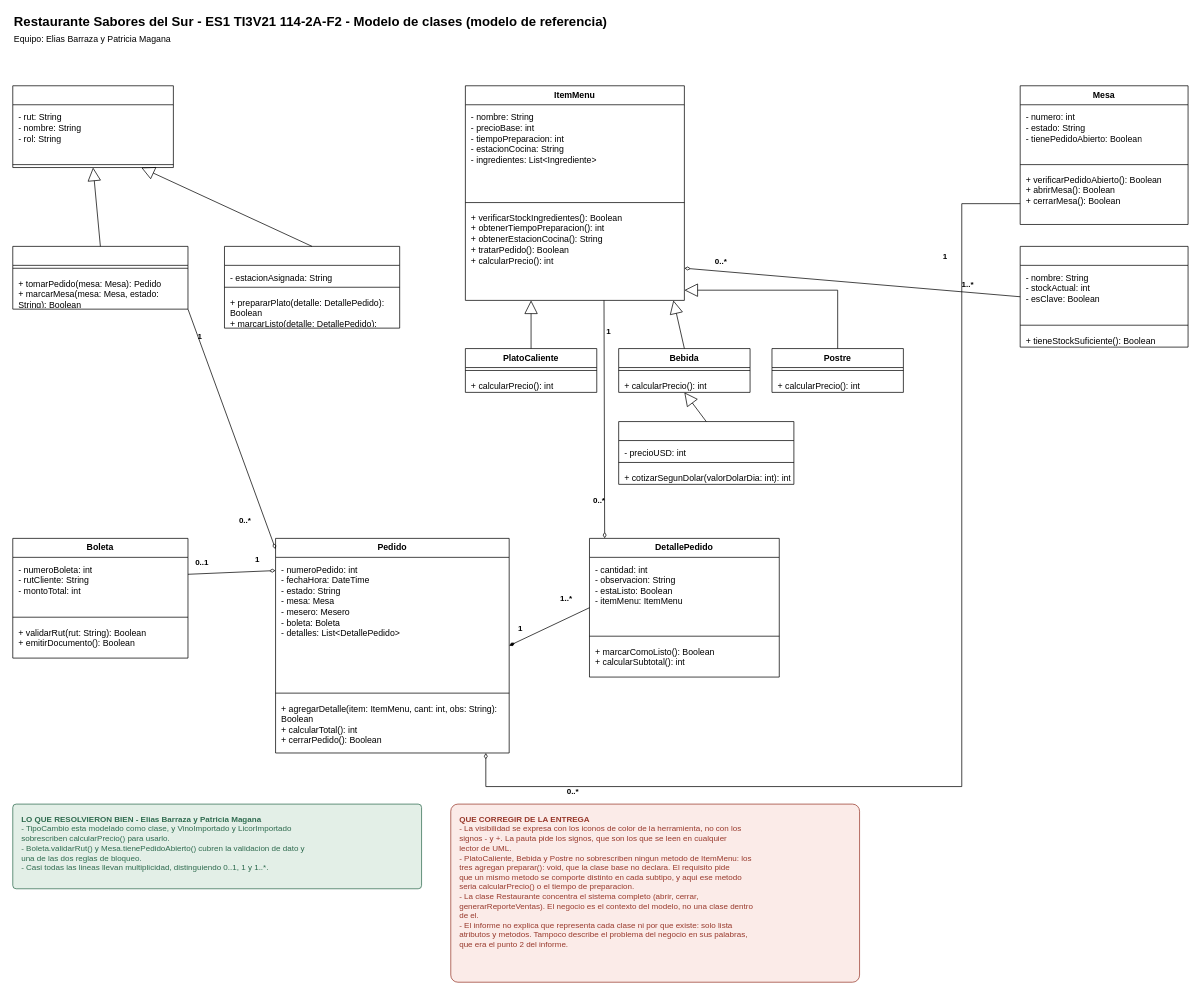
This 1201x995 diagram has some shape labels left out. Each missing label, with the box of its shape:
BebidaImportada: (618, 421, 794, 484)
Cocinero: (224, 246, 400, 328)
Ingrediente: (1019, 246, 1188, 347)
Mesero: (12, 246, 188, 309)
Trabajador: (12, 85, 173, 168)
